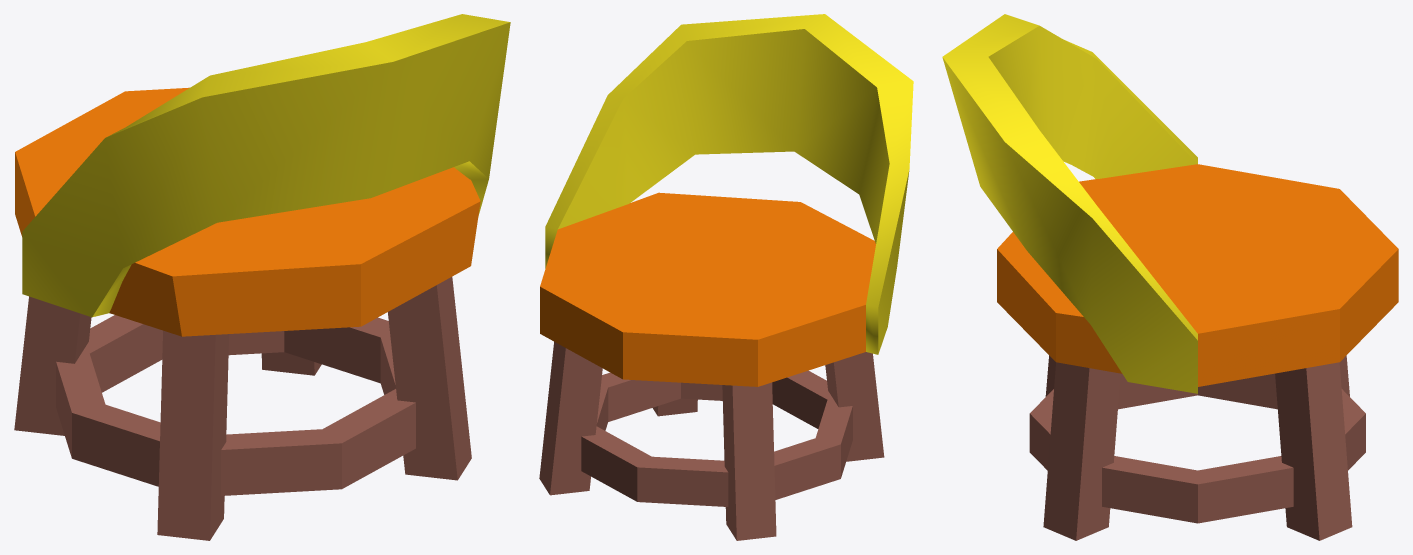
File: ChairA2_geo.fbx
3 views of the same model, side by side, from view 1: azimuth 30°, elevation 25°; view 2: azimuth 150°, elevation 25°; view 3: azimuth 270°, elevation 25° (orthographic). The views are drawn at different scales.
Visible parts, largest first — view 1: ChairA2_geo; view 2: ChairA2_geo; view 3: ChairA2_geo.
Boxes of the visible parts, bbox=[...] form: ChairA2_geo: bbox=[14, 14, 510, 540]; ChairA2_geo: bbox=[539, 14, 913, 540]; ChairA2_geo: bbox=[942, 14, 1398, 540].
Bounding box in the file's own units: 0.6482 × 0.6821 × 0.6908.
